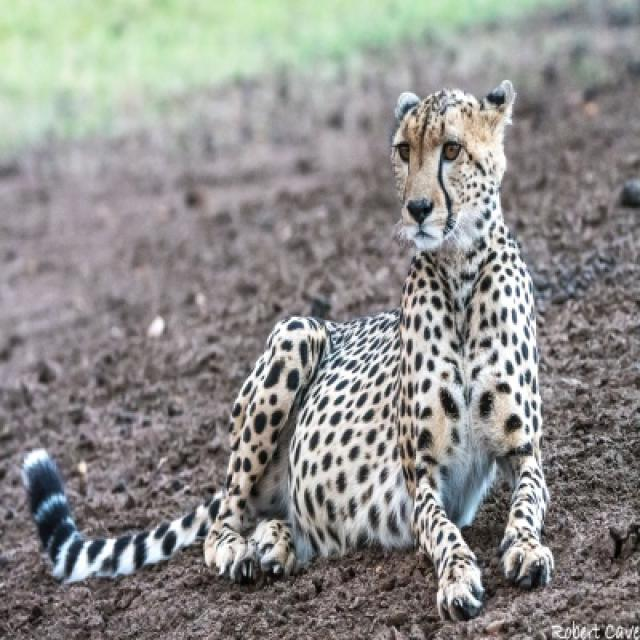Cheetah: (29, 85, 554, 626)
